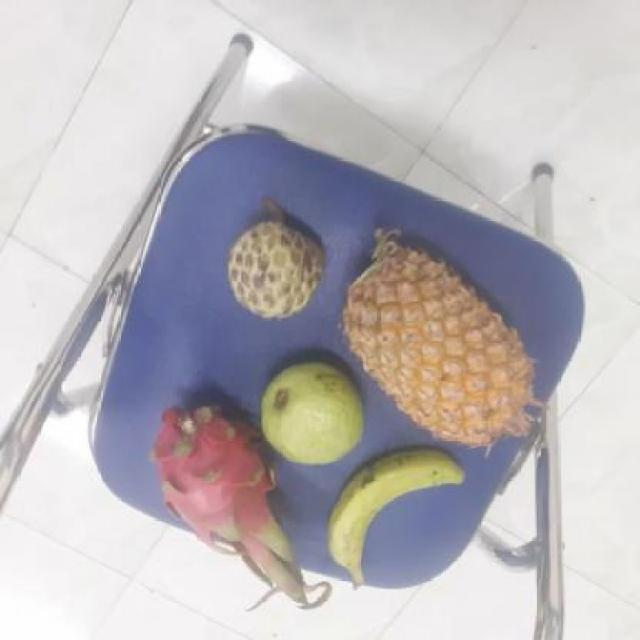banana: (328, 445, 470, 582)
dragon fruit: (156, 403, 307, 566)
guava: (260, 359, 368, 466)
pineapple: (345, 231, 540, 449)
sugar apple: (230, 219, 333, 319)
